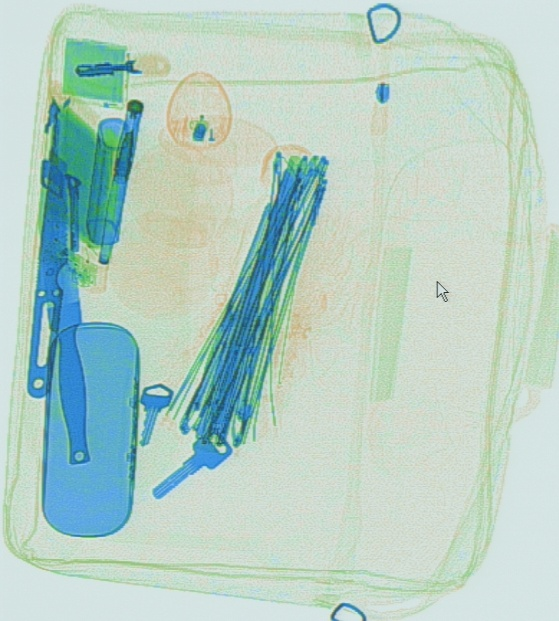knife: (45, 153, 90, 467), (23, 146, 71, 400)
